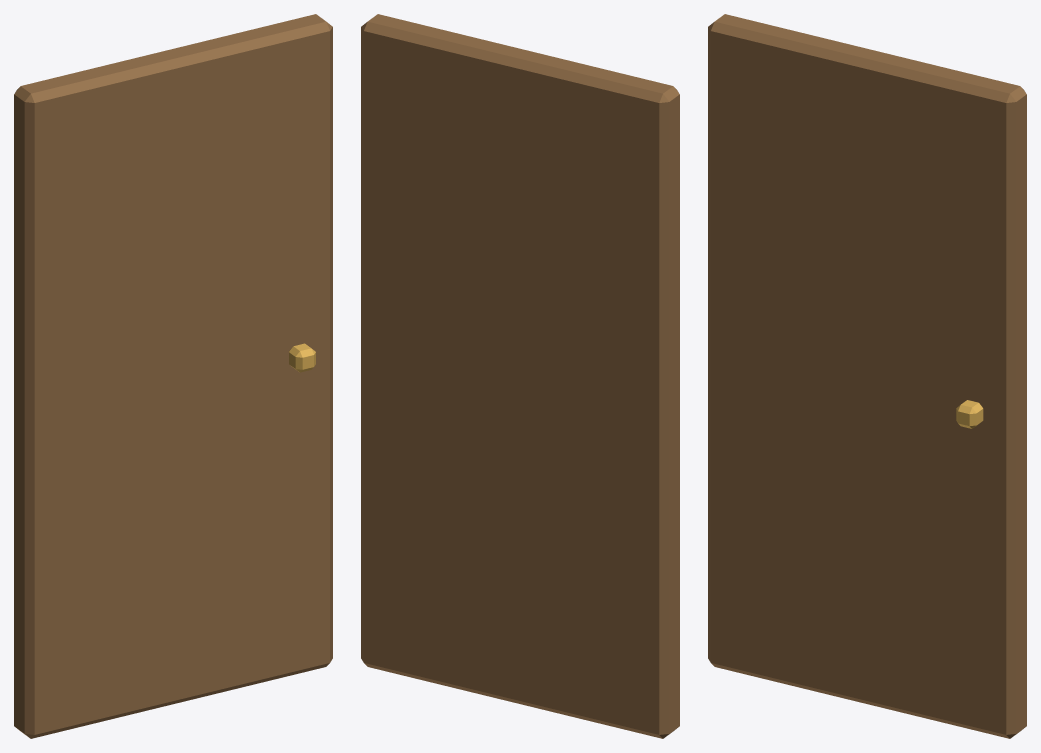
Rendered from harbor-door.lod0.glb.
3 renders of one model, left to right at view 1: azimuth 30°, elevation 25°; view 2: azimuth 150°, elevation 25°; view 3: azimuth 330°, elevation 25°, orthographic.
Visible parts, largest first — view 1: harbor-door__door; view 2: harbor-door__door; view 3: harbor-door__door.
Boxes of the visible parts, x1=… form: harbor-door__door: x1=14, y1=14, x2=332, y2=738; harbor-door__door: x1=361, y1=14, x2=679, y2=738; harbor-door__door: x1=708, y1=14, x2=1026, y2=738.
Size of the model in its own units: 1.2 by 2.4 by 0.19.
